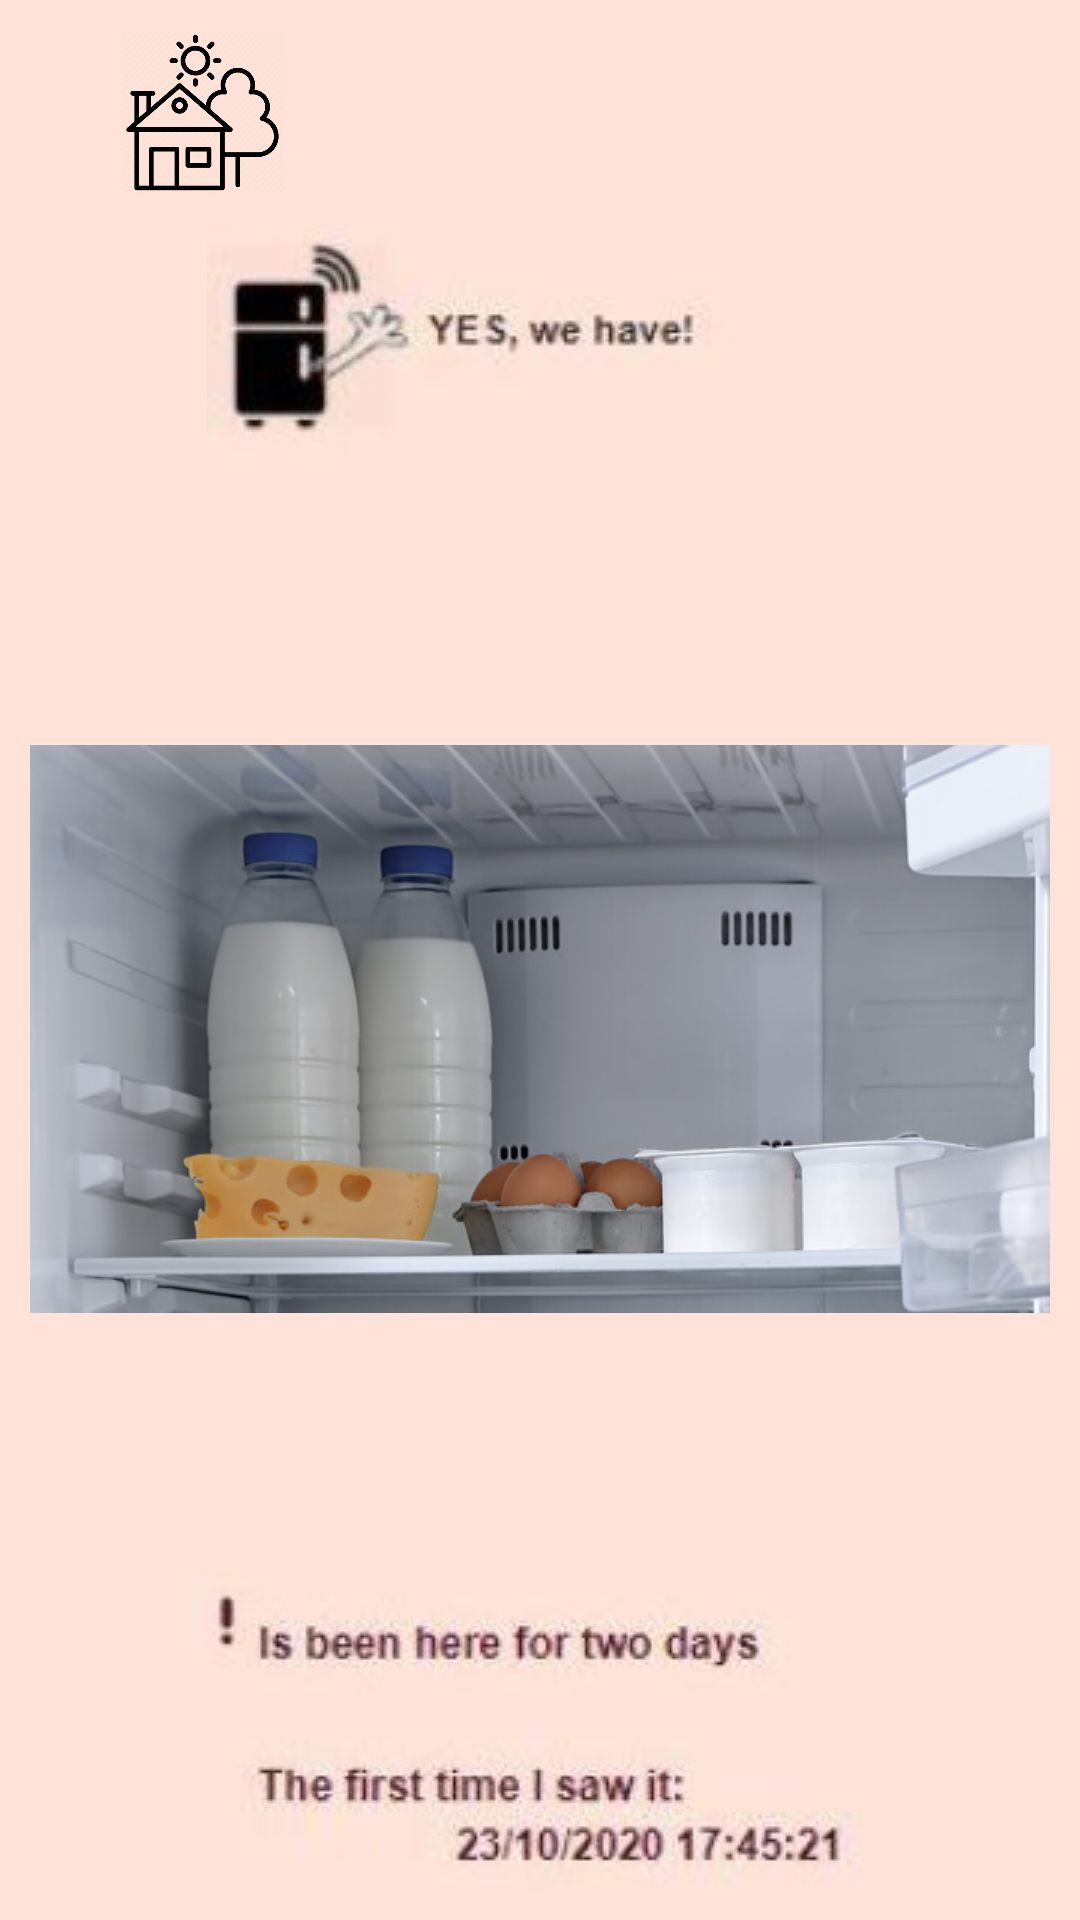

Point at icon controls on the screen. Image size 1080 x 1920, points as point (x, y).
house: point (202, 112)
